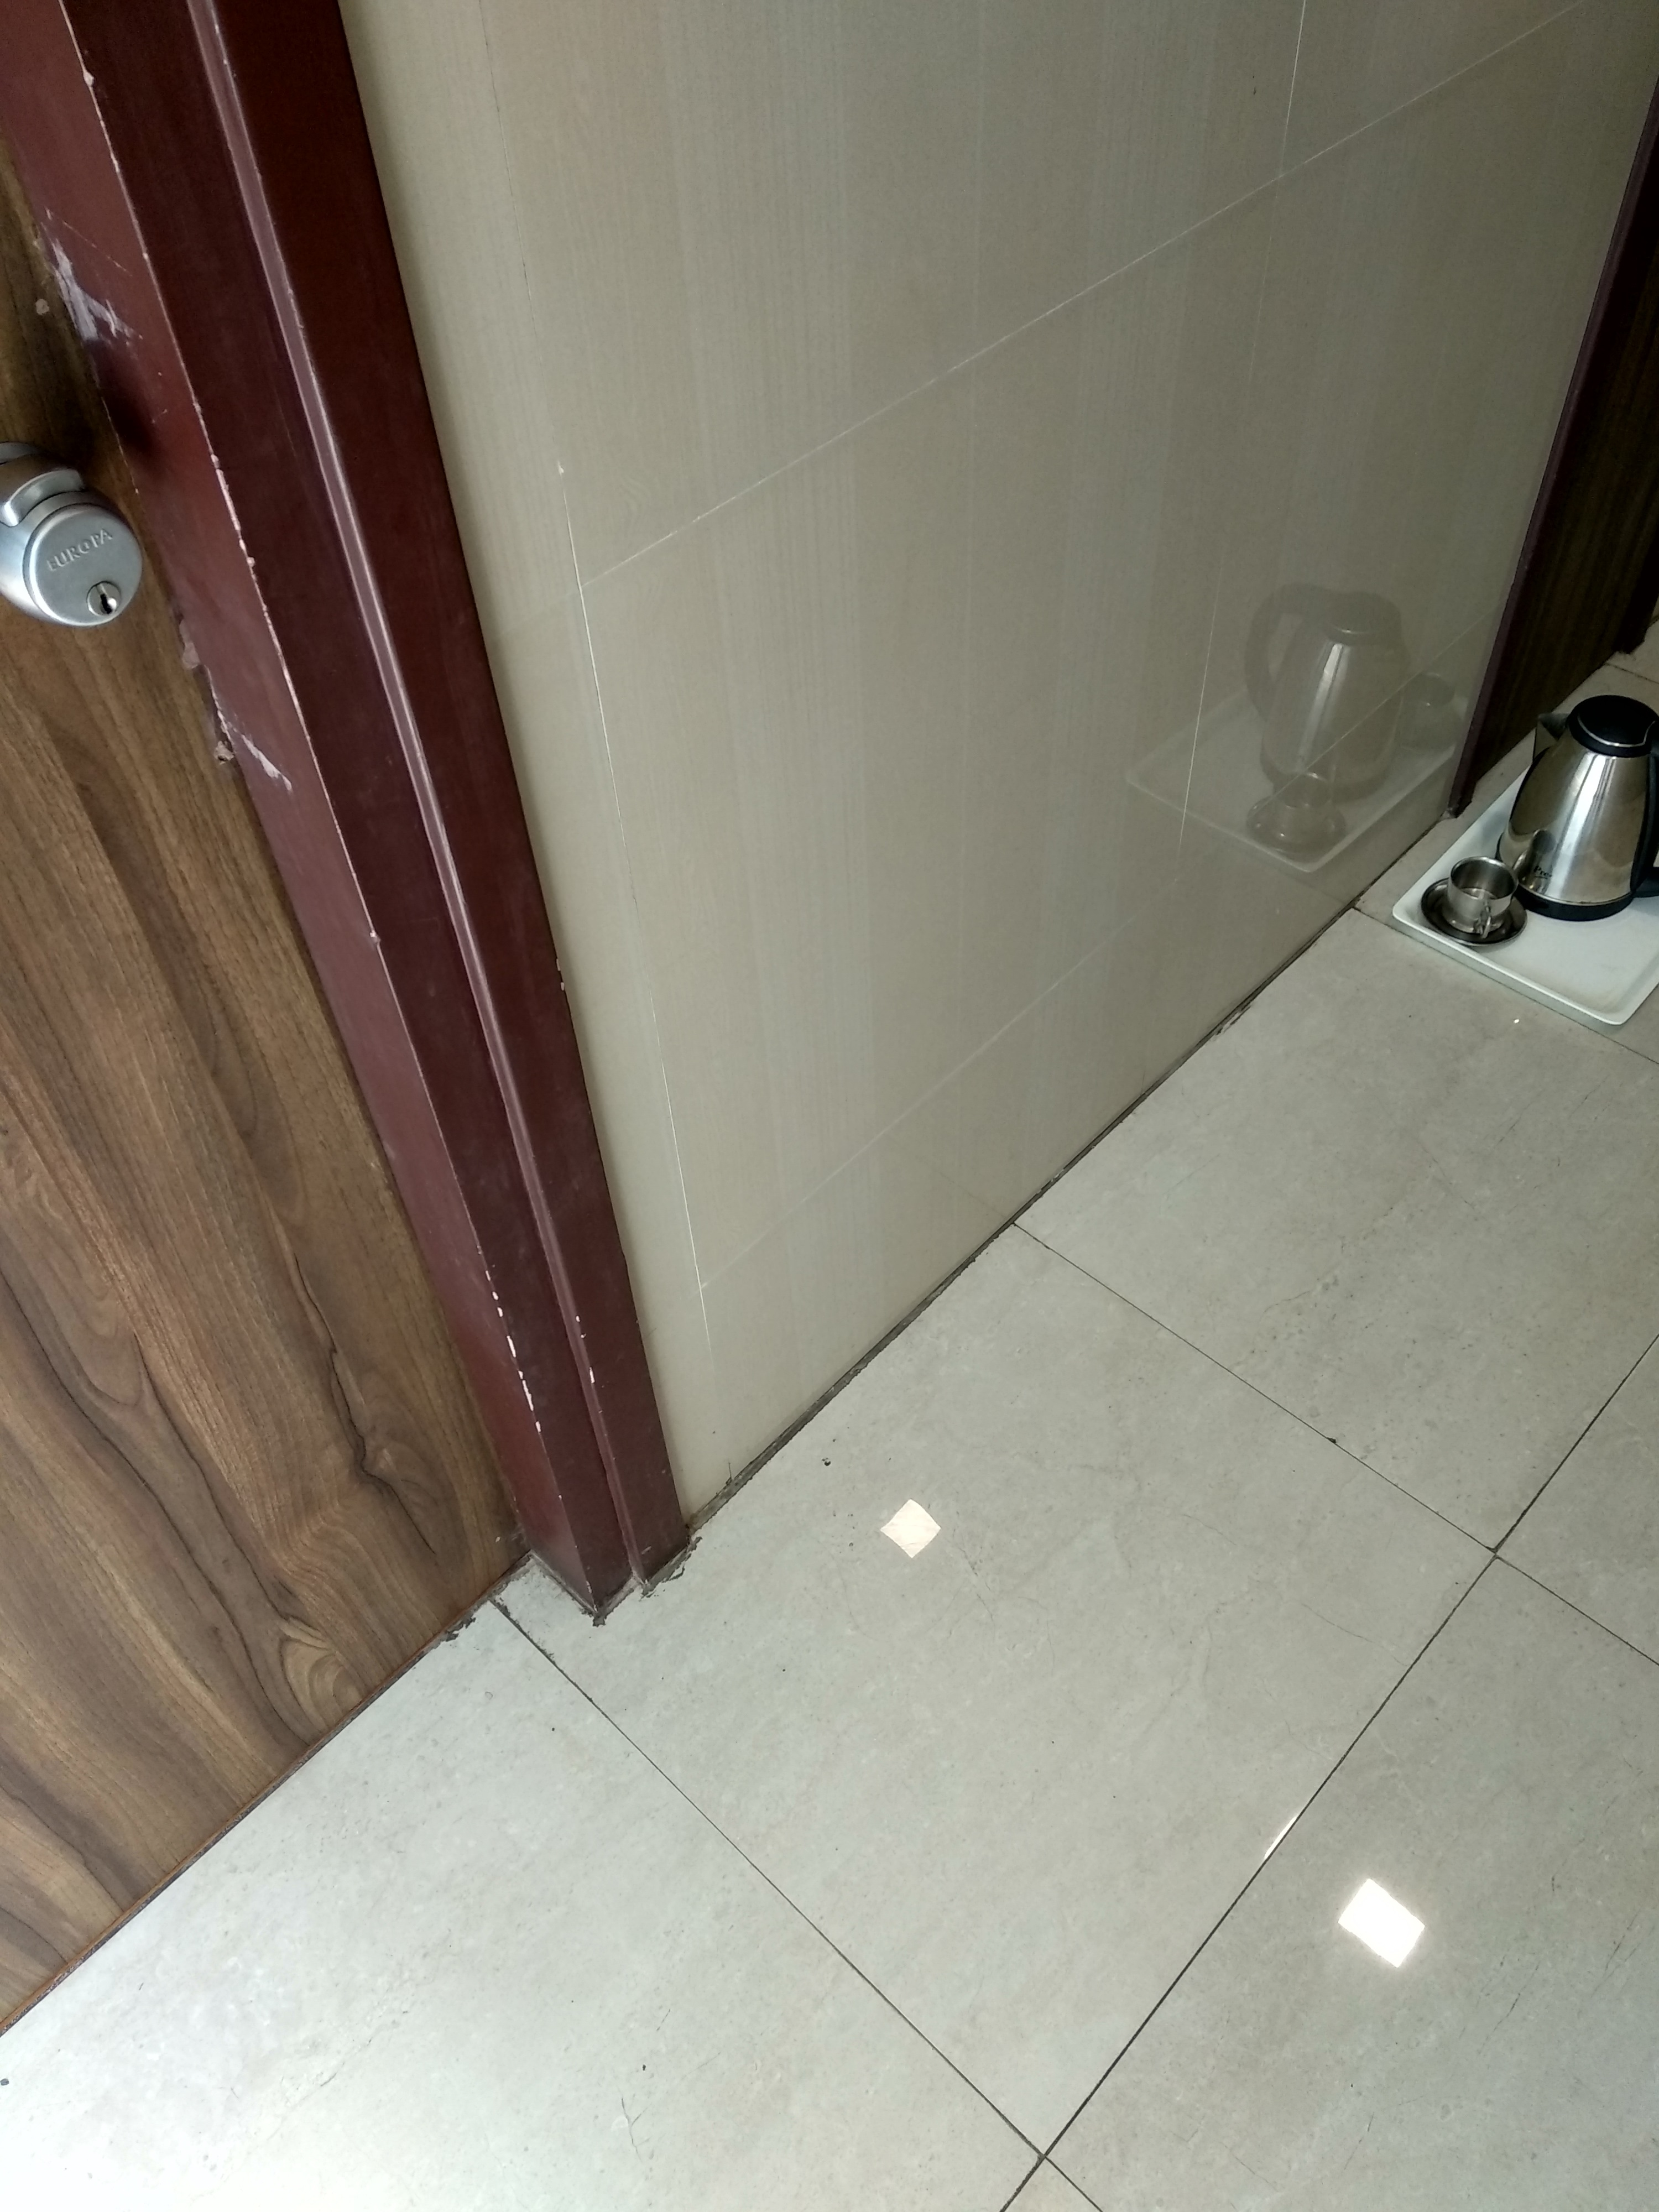CUP: (1446, 859, 1518, 935)
FLASK: (1549, 704, 1633, 927)
